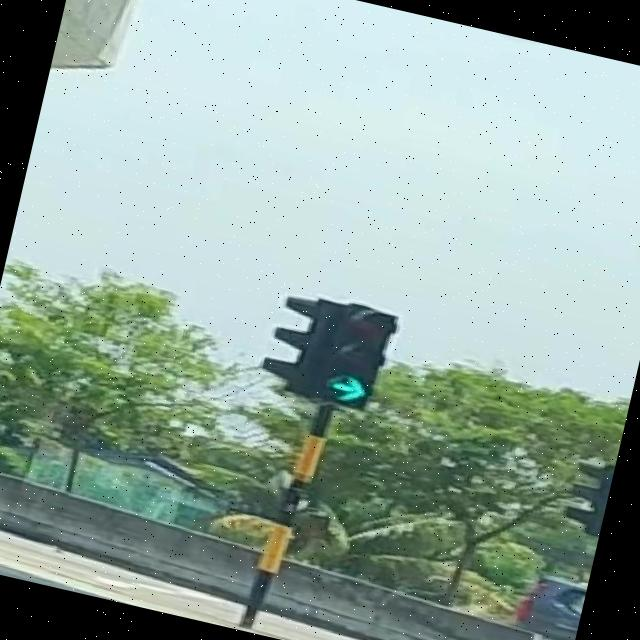green_light: (316, 302, 398, 414)
